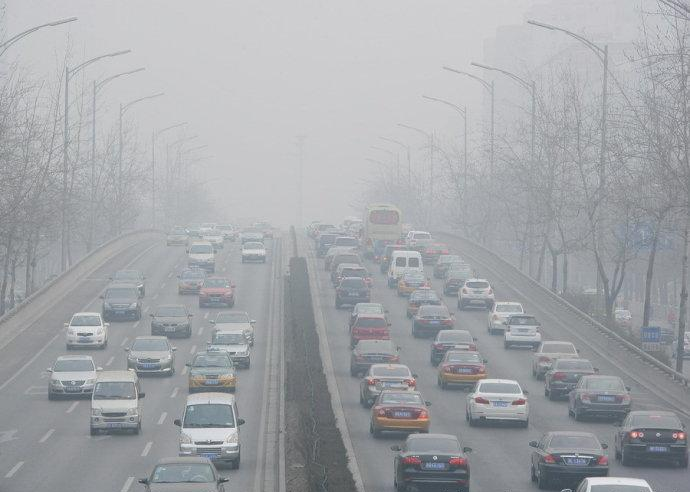bus: (361, 203, 404, 254), (387, 250, 425, 291)
car: (173, 391, 245, 472), (390, 433, 473, 492), (527, 431, 611, 489), (613, 410, 688, 468), (89, 369, 147, 436), (366, 388, 434, 440), (463, 379, 532, 429), (135, 457, 232, 492), (565, 375, 634, 421), (357, 363, 419, 409), (184, 346, 239, 394), (437, 343, 491, 391), (46, 354, 102, 399), (543, 357, 598, 402), (124, 335, 178, 376), (531, 341, 581, 382), (205, 331, 253, 372), (209, 310, 257, 351), (349, 339, 402, 376), (64, 311, 112, 351), (430, 329, 479, 366), (99, 283, 144, 323), (148, 304, 195, 340), (560, 475, 655, 492), (501, 313, 543, 351), (349, 314, 393, 348), (412, 304, 456, 337), (487, 301, 527, 335), (457, 278, 496, 312), (197, 276, 236, 310), (334, 276, 371, 310), (406, 285, 443, 318), (348, 301, 390, 330), (108, 269, 147, 300), (185, 241, 218, 276), (330, 253, 365, 285), (337, 267, 373, 296), (443, 269, 478, 298), (176, 266, 208, 297), (380, 244, 412, 274), (397, 269, 432, 296), (331, 236, 360, 264), (317, 233, 345, 261), (432, 254, 463, 279), (444, 262, 477, 284), (238, 241, 269, 264), (609, 308, 636, 332), (164, 225, 191, 248), (200, 229, 226, 249), (252, 220, 275, 242), (407, 230, 433, 249), (672, 330, 690, 357), (213, 223, 236, 244), (240, 226, 265, 245)
